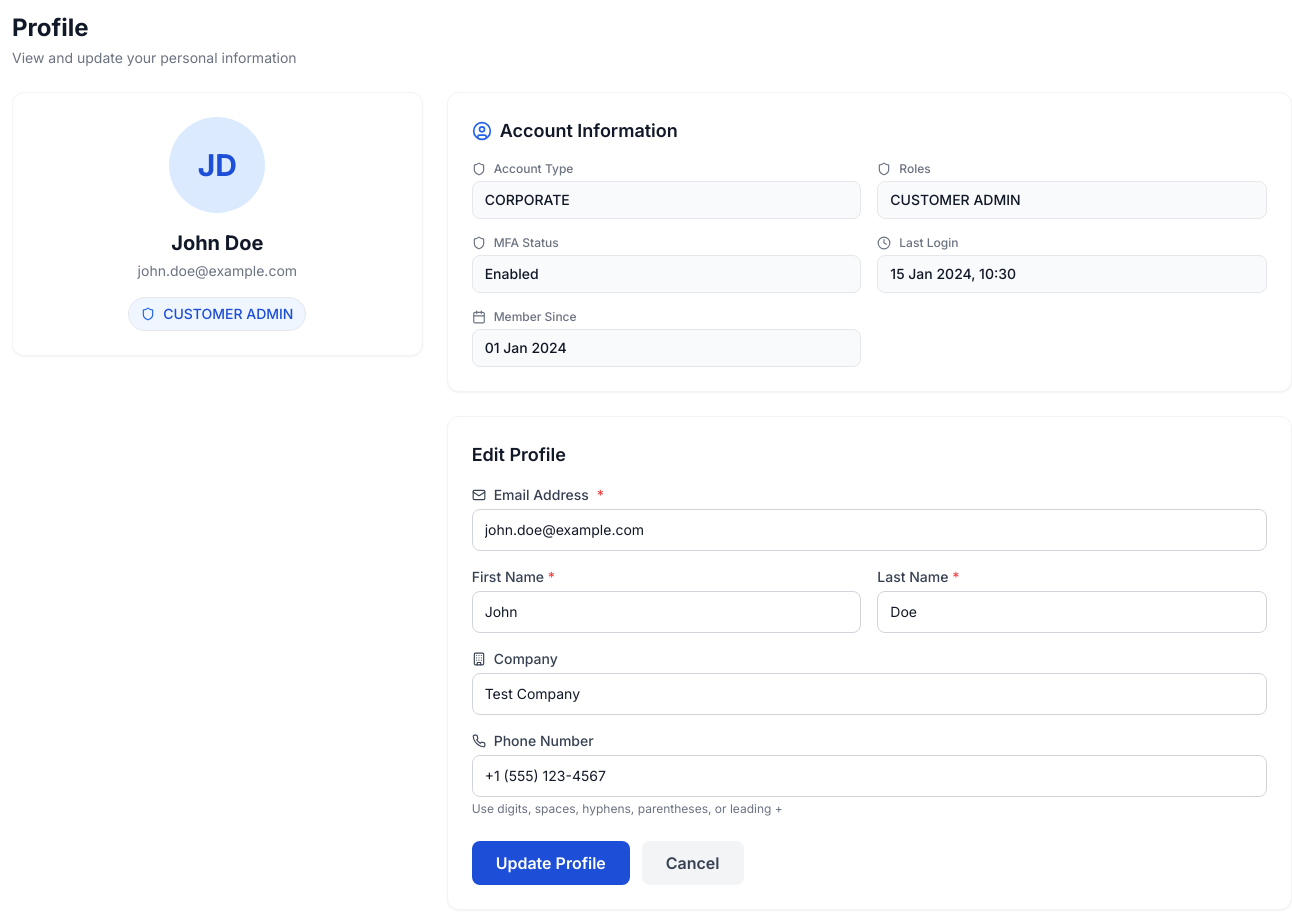
Scenario: ProfileEditForm Validation › should display validation error when lastName is empty
Note: Clear the lastName field
Clear the field with placeholder "Doe" below "Last Name" at (1072, 612), box [877,591,1267,633]
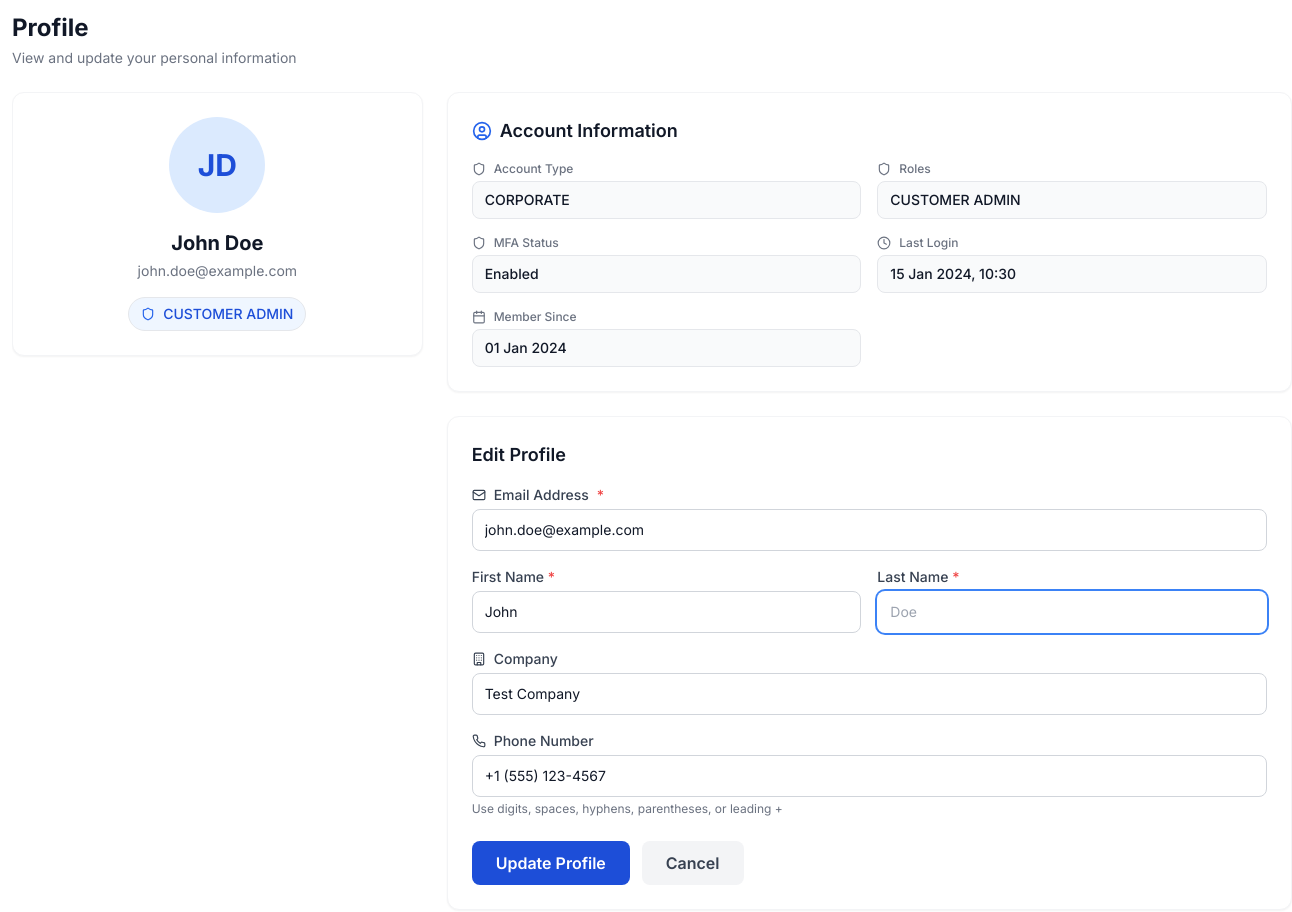
Note: Submit the form
Click the button "Update Profile" at (551, 863), box [472,841,630,885]
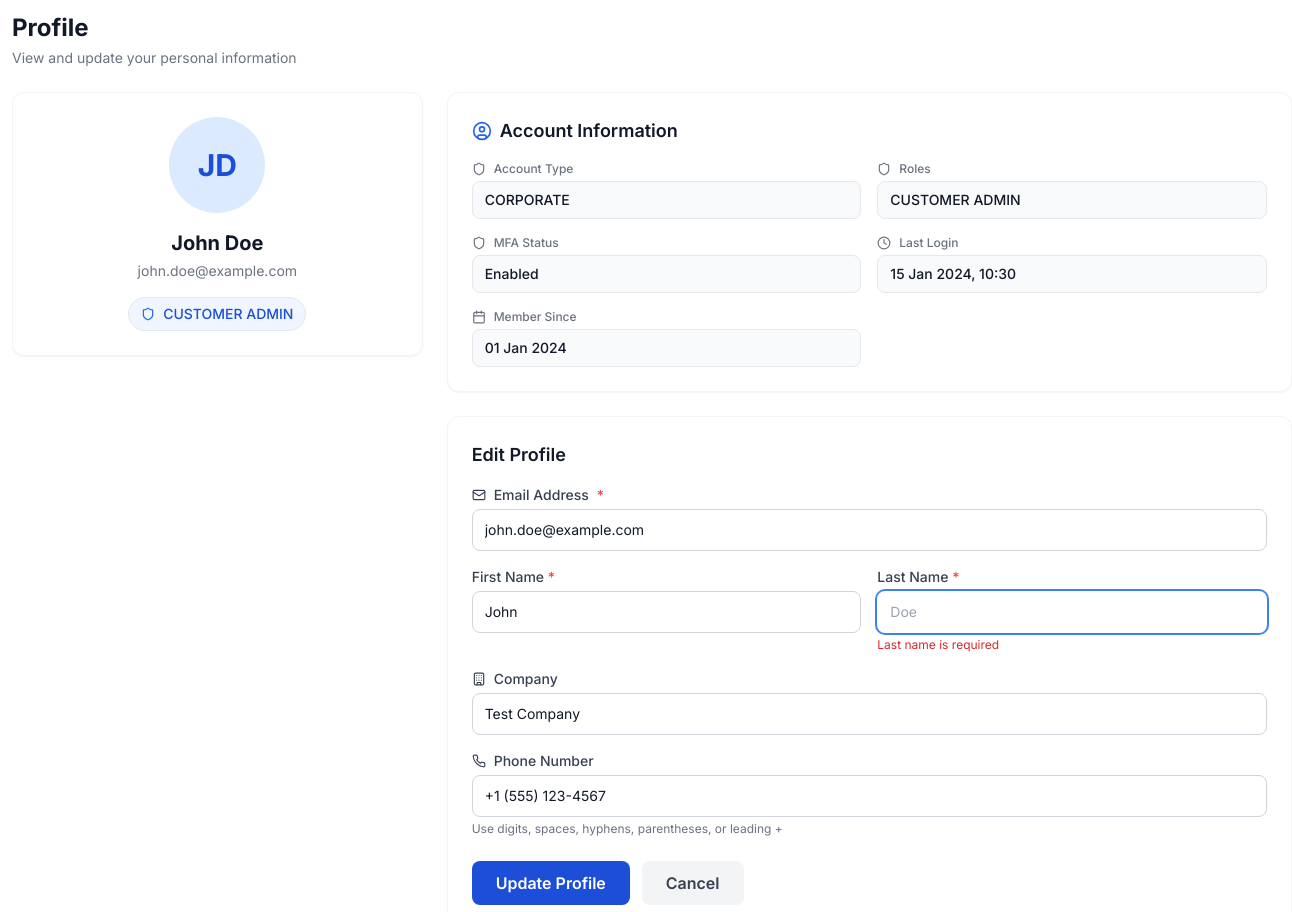
Result: the text "Last name is required" is shown at [877,637,999,652]
